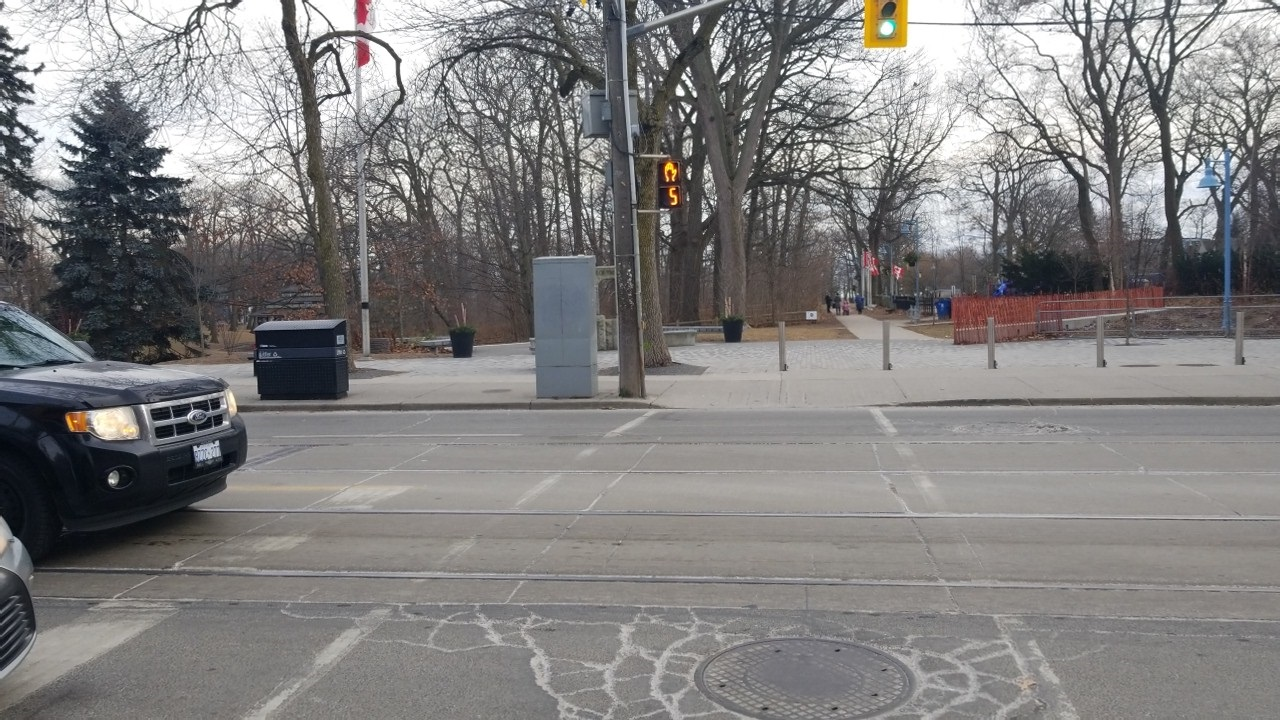light: (654, 154, 685, 210)
